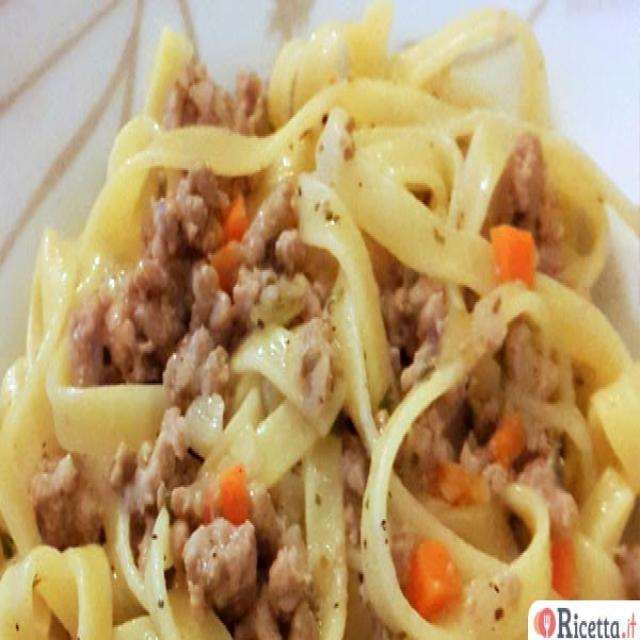Pasta al ragu: (70, 30, 600, 590)
